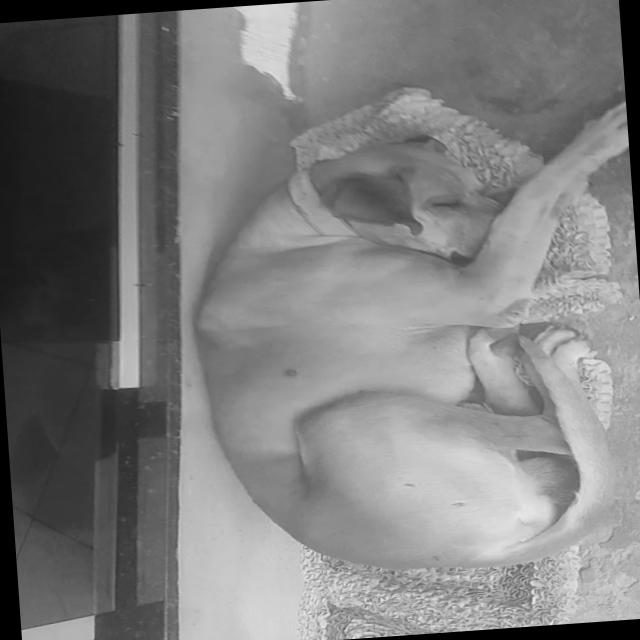laying down: (166, 90, 640, 595)
